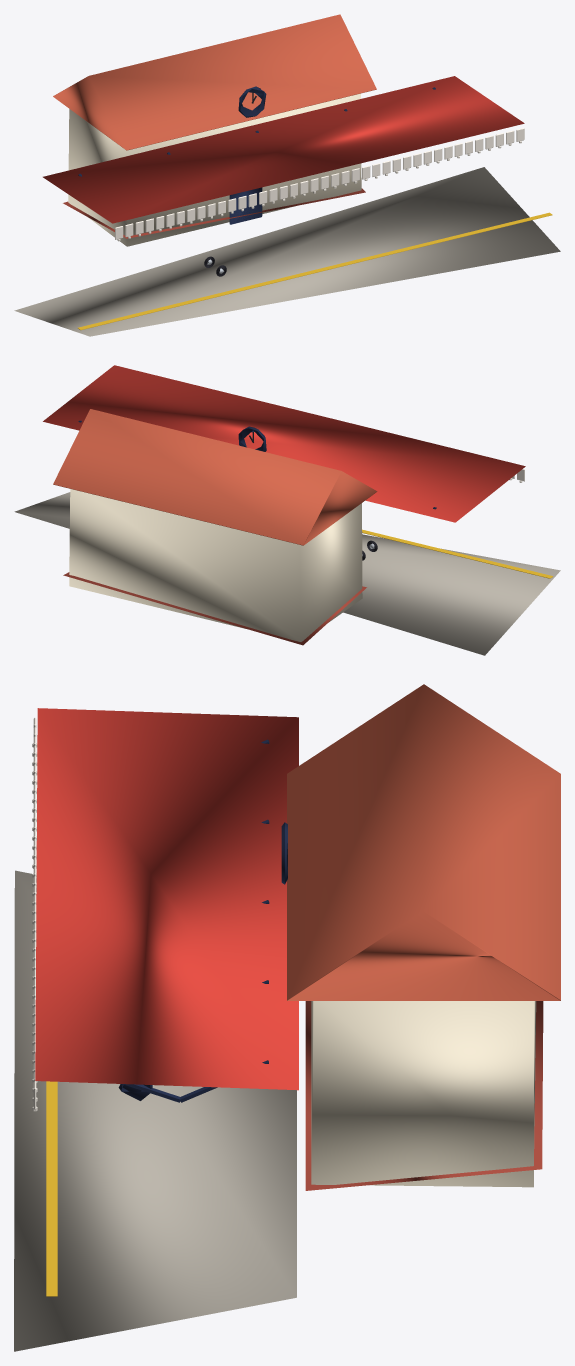
The model's file is station.glb.
3 views of the same model, one above another, from view 1: azimuth 30°, elevation 25°; view 2: azimuth 150°, elevation 25°; view 3: azimuth 270°, elevation 25° (orthographic). The views are drawn at different scales.
Visible parts, largest first — view 1: station; view 2: station; view 3: station.
Boxes of the visible parts, x1=… form: station: x1=14, y1=14, x2=560, y2=336; station: x1=14, y1=365, x2=560, y2=655; station: x1=14, y1=684, x2=560, y2=1351.
Bounding box in the file's own units: 16 × 5.95 × 8.65.
Materials: 1 (1 with a texture image).
